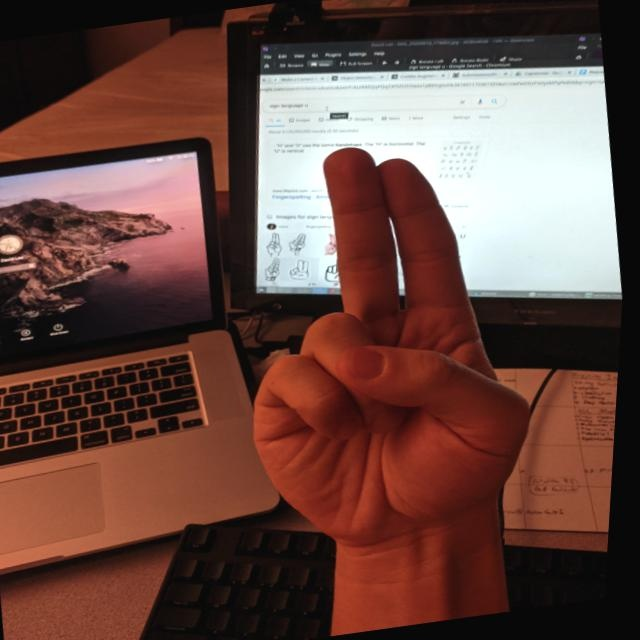U: (208, 116, 572, 563)
